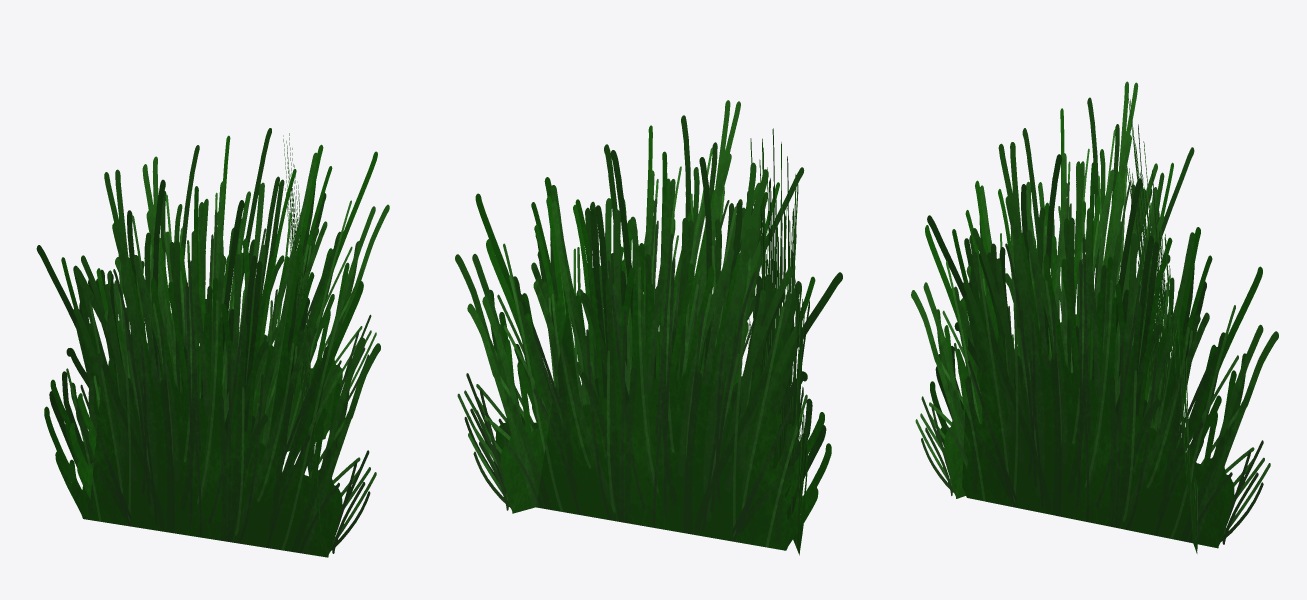
File: Grass.fbx
3 renders of one model, left to right at view 1: azimuth 30°, elevation 25°; view 2: azimuth 150°, elevation 25°; view 3: azimuth 270°, elevation 25°, orthographic. The views are drawn at different scales.
Parts seen in each view (by area): view 1: gRASS; view 2: gRASS; view 3: gRASS.
Part boxes in pixels (bbox=[...]): gRASS: bbox=[36, 128, 389, 557]; gRASS: bbox=[455, 100, 842, 555]; gRASS: bbox=[911, 81, 1278, 553].
Size of the model in its own units: 206 by 201 by 182.
1 material, 1 textured.
